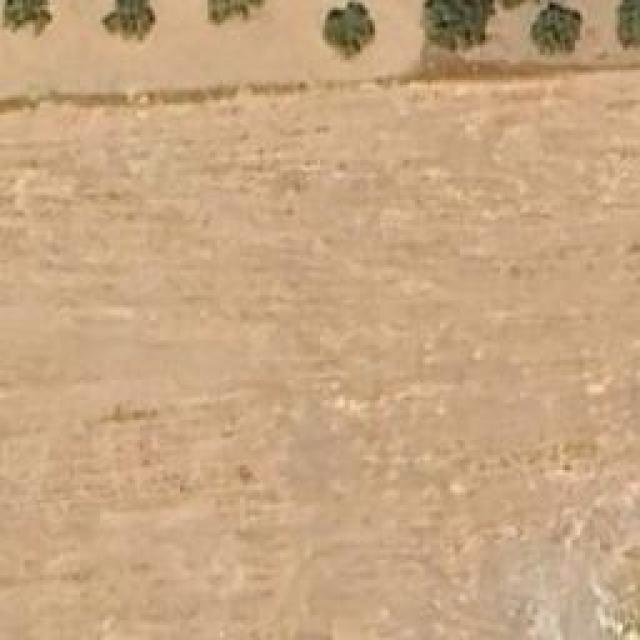Tree: (425, 0, 490, 52), (323, 0, 378, 60), (530, 0, 583, 58), (102, 0, 157, 42), (3, 0, 53, 40), (207, 0, 262, 22), (620, 0, 640, 48)
